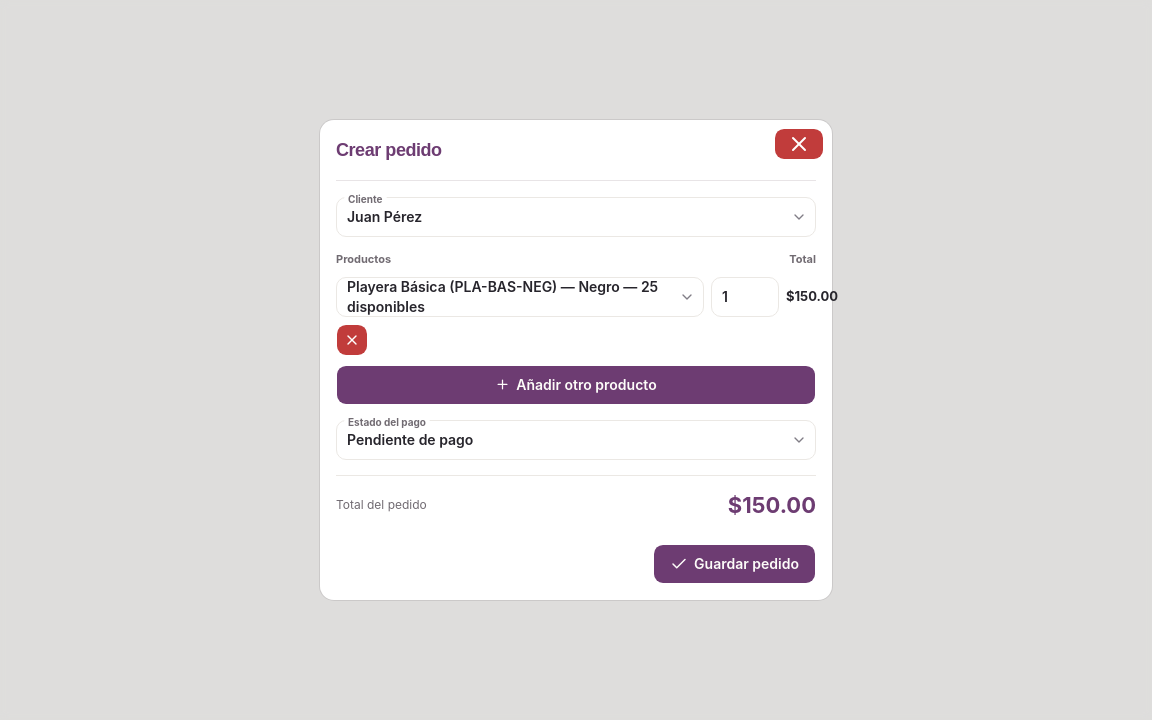
Scenario: OrderModal › Añadir/quitar productos › debería quitar una línea al hacer clic en "Quitar producto"
Click the button "Añadir otro producto": (576, 385) [336,365,816,405]
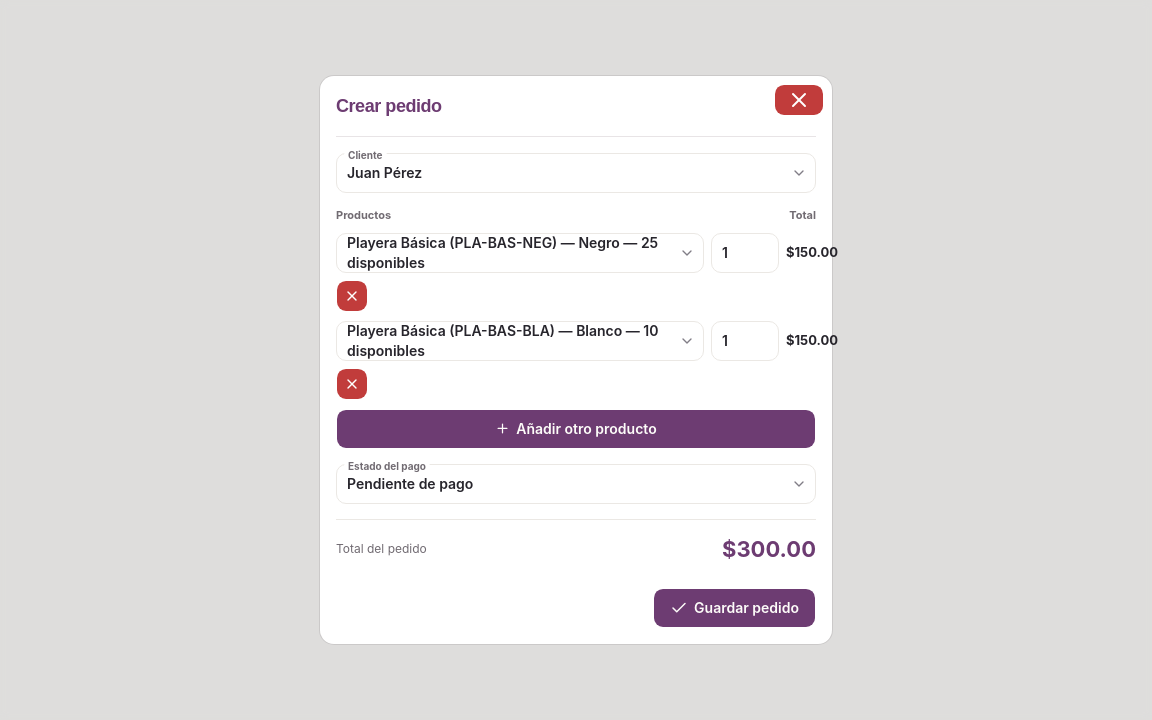
Check: the number of buttons named "Quitar producto" is 2
Click the 1st button named "Quitar producto": (352, 296) [336,280,368,312]
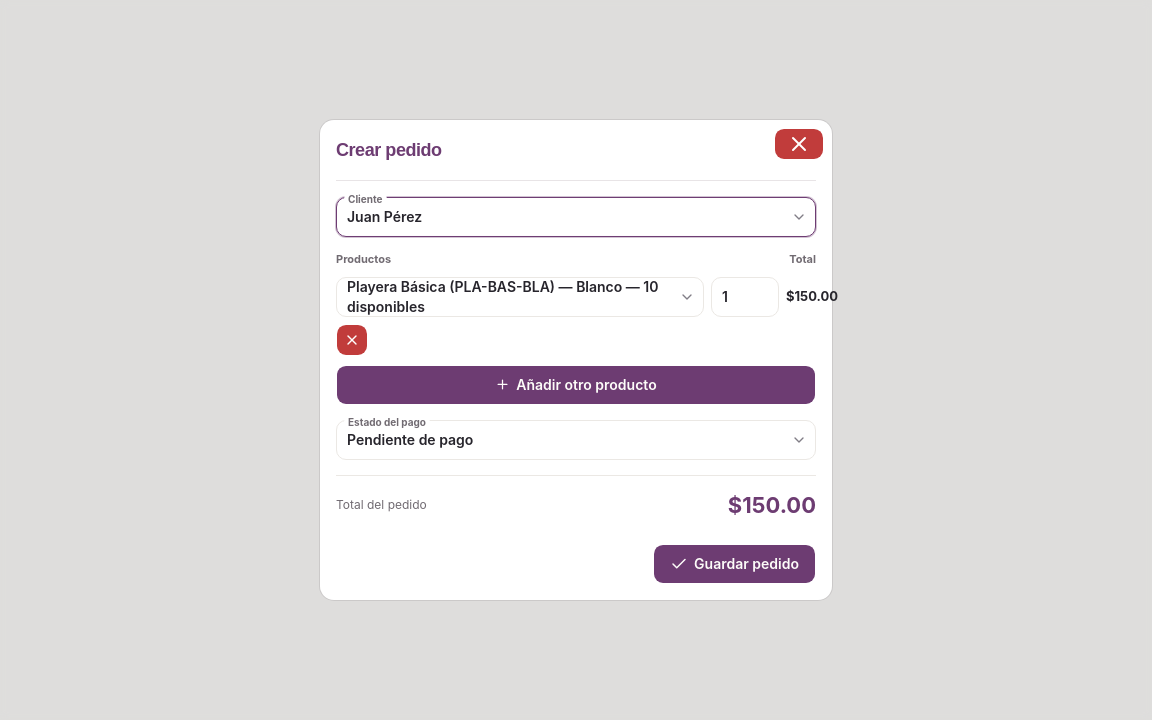
Check: the number of buttons named "Quitar producto" is 1, box [336,324,368,356]
